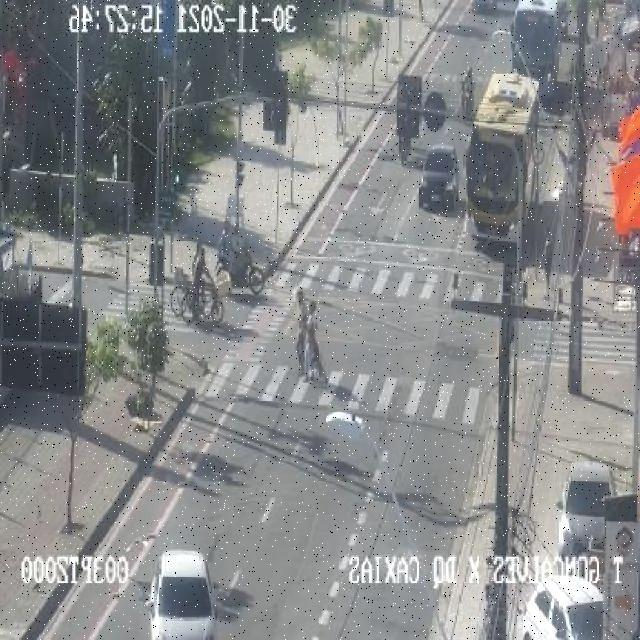Bus: (468, 68, 542, 269), (498, 0, 578, 92)
Car: (130, 536, 219, 640), (505, 558, 603, 636), (554, 457, 614, 551), (415, 146, 459, 222)
Cycle: (157, 232, 224, 331), (205, 219, 271, 304)
